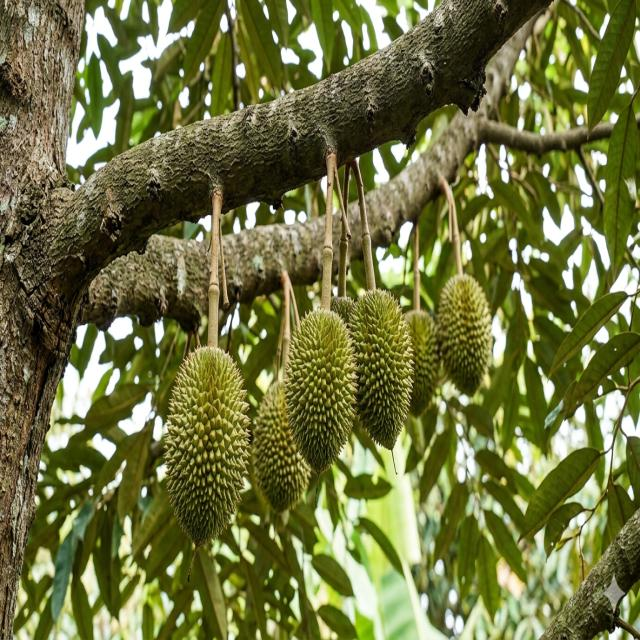immature: (162, 341, 255, 555), (282, 303, 356, 477), (346, 286, 414, 450), (250, 378, 311, 513), (436, 272, 494, 392), (337, 287, 371, 379), (331, 293, 358, 326)
